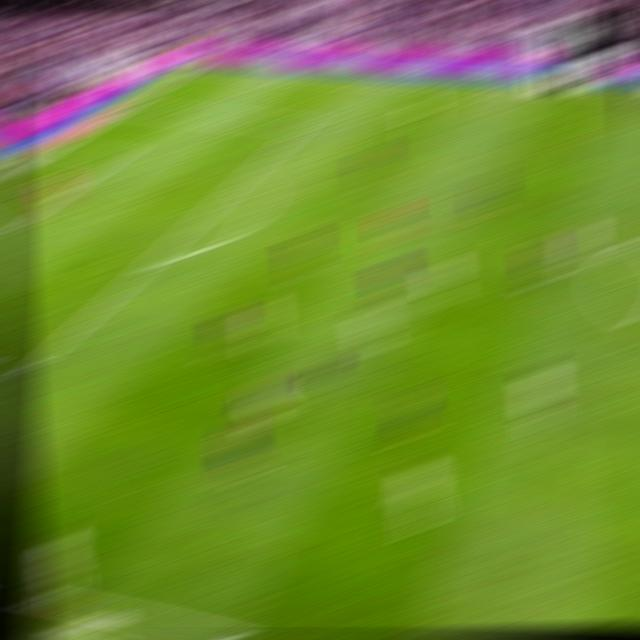bigarea_bottom_inner: (12, 357, 44, 378)
bigarea_top_inner: (289, 118, 315, 129)
bigarea_top_outter: (119, 102, 146, 110)
bottom_arc_area_intersection: (136, 254, 167, 268)
corner: (184, 62, 213, 68)
smallarea_top_inner: (108, 152, 135, 160)
top_arc_area_intersection: (229, 172, 257, 183)
